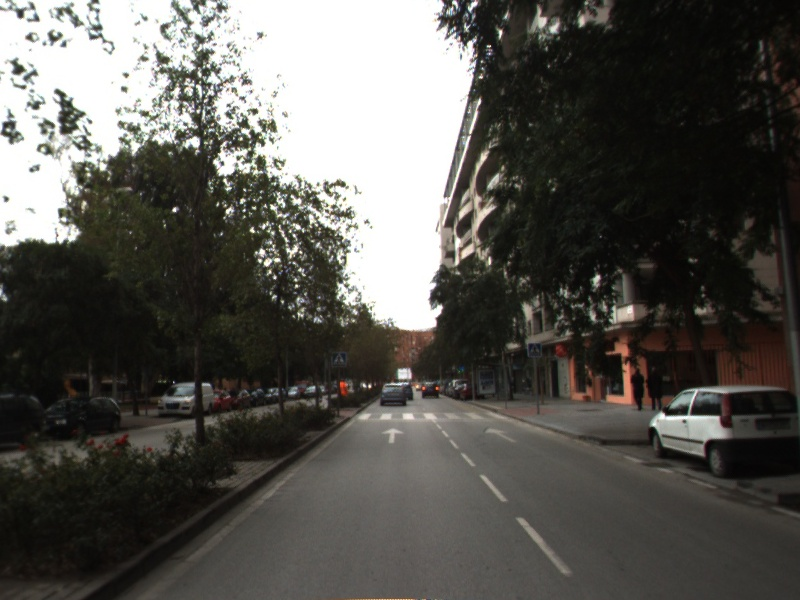STRAIGHT: (482, 425, 519, 445), (379, 426, 407, 445)
